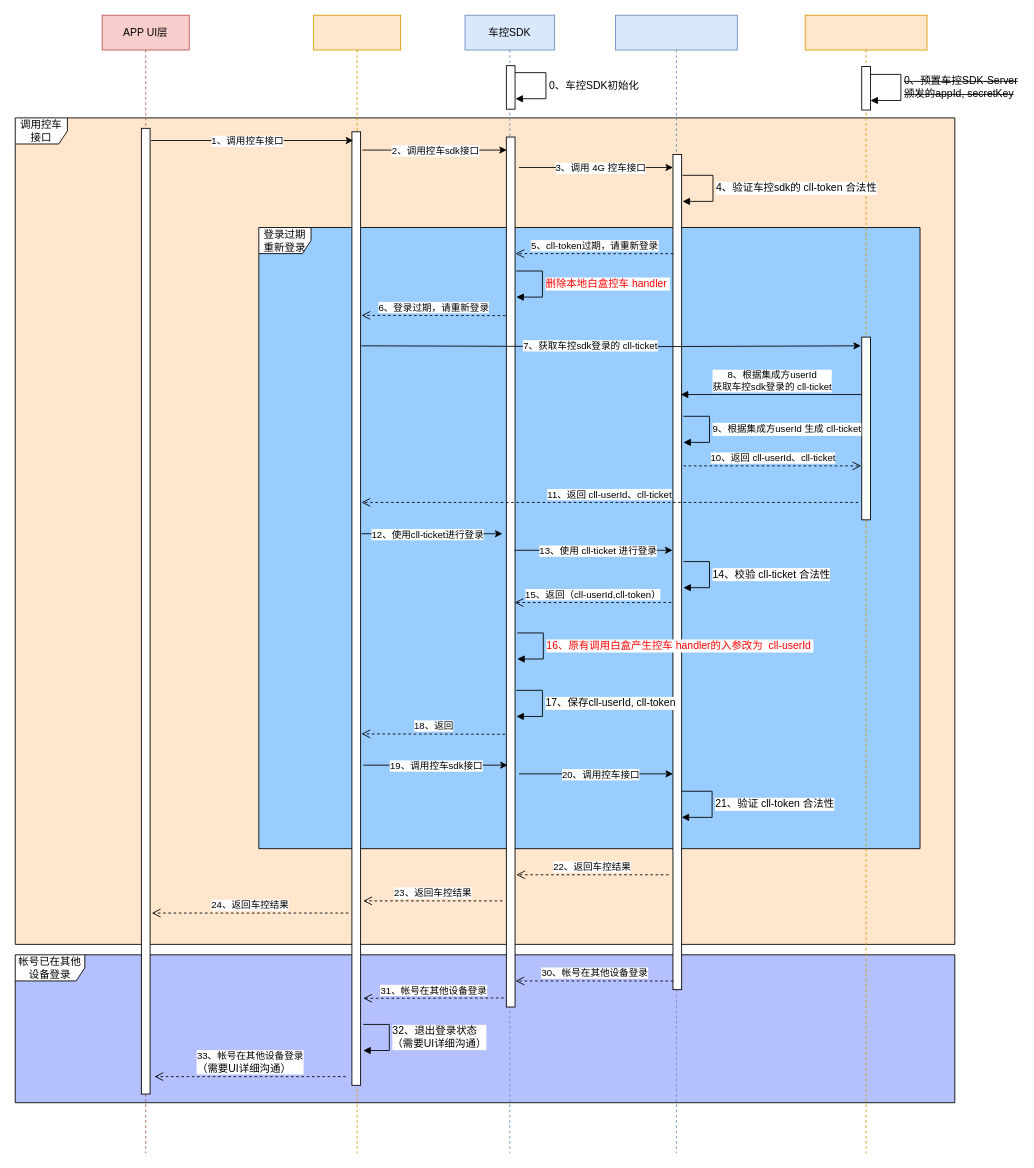
This 1034x1168 diagram has some shape labels left out. Here are the shapes that lost their labels. From the top down, the box of each, then its label:
(313, 14, 401, 1153): 集成方：沈阳SDK
(615, 14, 737, 1153): 车控云
(804, 14, 927, 1153): 集成方：沈阳云
